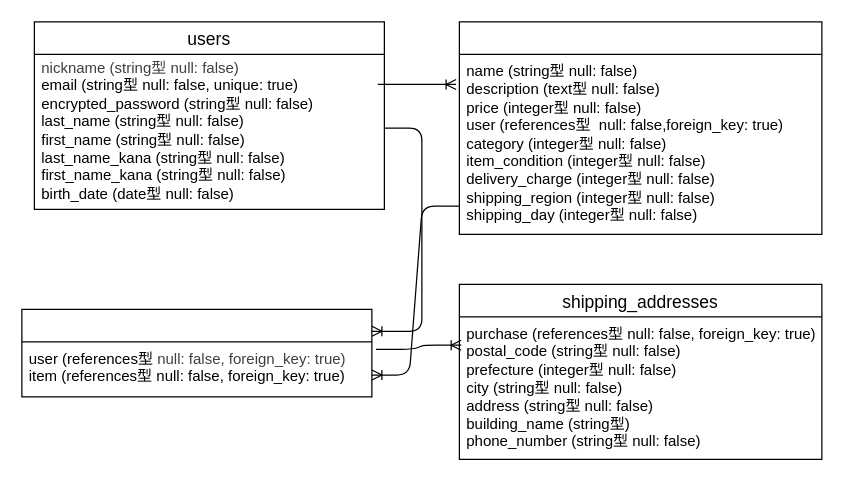
The diagram is 844 pixels wide and 485 high, and some of its shapes have lost their labels. Here are the shapes that lost their labels. From the top down, the box of each, then its label:
(458, 21, 822, 234): items
(21, 308, 372, 397): purchases
